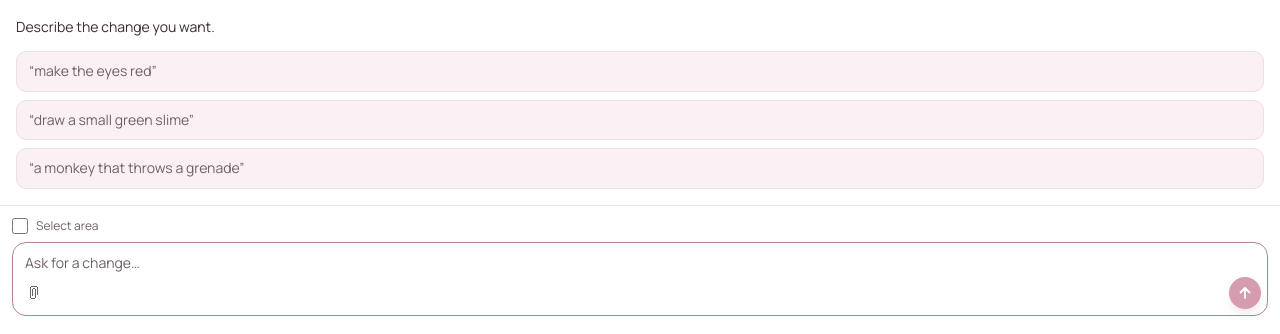
Scenario: AI chat submission › ends the pending state and exposes unexpected errors during generation
Check: the button named "Send" is disabled, box [1229, 277, 1261, 309]
Type "draw a blood mage" into the text box named "Message" at (640, 260), box [13, 243, 1267, 277]
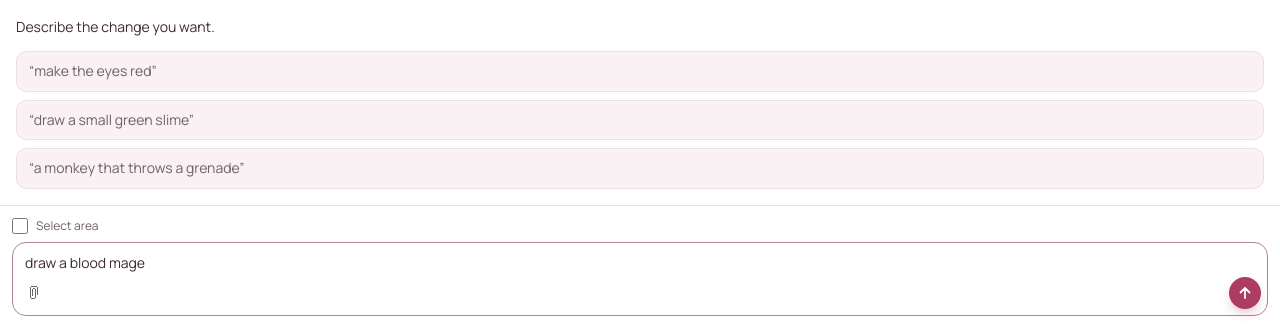
Check: the button named "Send" is enabled
Click the button named "Send" at (1245, 293), box [1229, 277, 1261, 309]
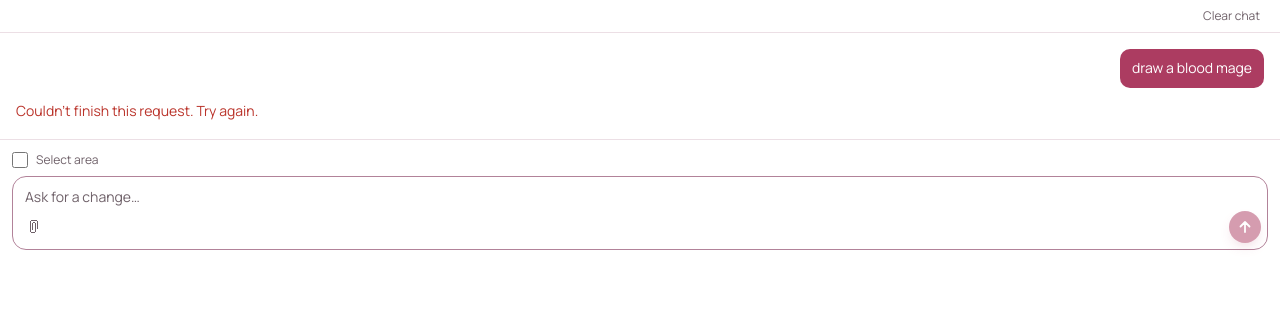
Check: the button named "Send" is shown, box [1229, 210, 1261, 242]
Check: the list item "Couldn’t finish this request. Try again." is shown, box [16, 101, 258, 120]
